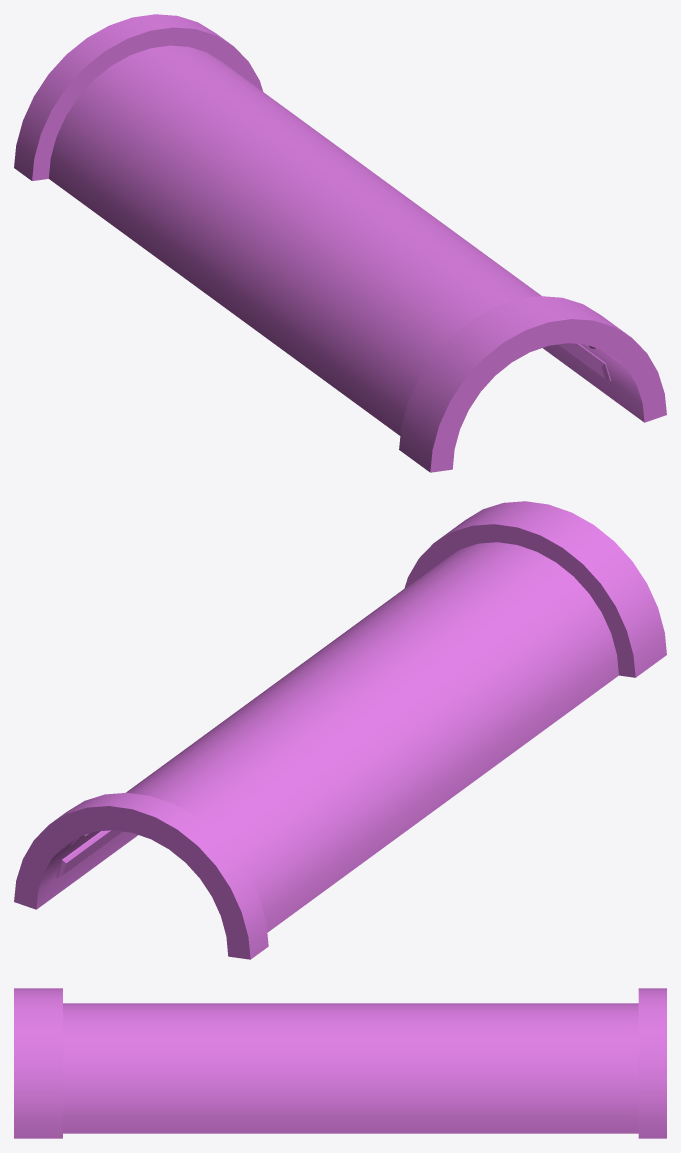
The model's file is tunnel.fbx.
3 renders of one model, top to bottom at view 1: azimuth 30°, elevation 25°; view 2: azimuth 150°, elevation 25°; view 3: azimuth 270°, elevation 25°, orthographic. The views are drawn at different scales.
Visible parts, largest first — view 1: Circle.005; view 2: Circle.005; view 3: Circle.005.
Boxes of the visible parts, box(x1,y1,x2,y2) form: Circle.005: box(14, 14, 666, 472); Circle.005: box(14, 501, 666, 959); Circle.005: box(14, 988, 666, 1138).
Size of the model in its own units: 8.02 by 4.02 by 24.45.
